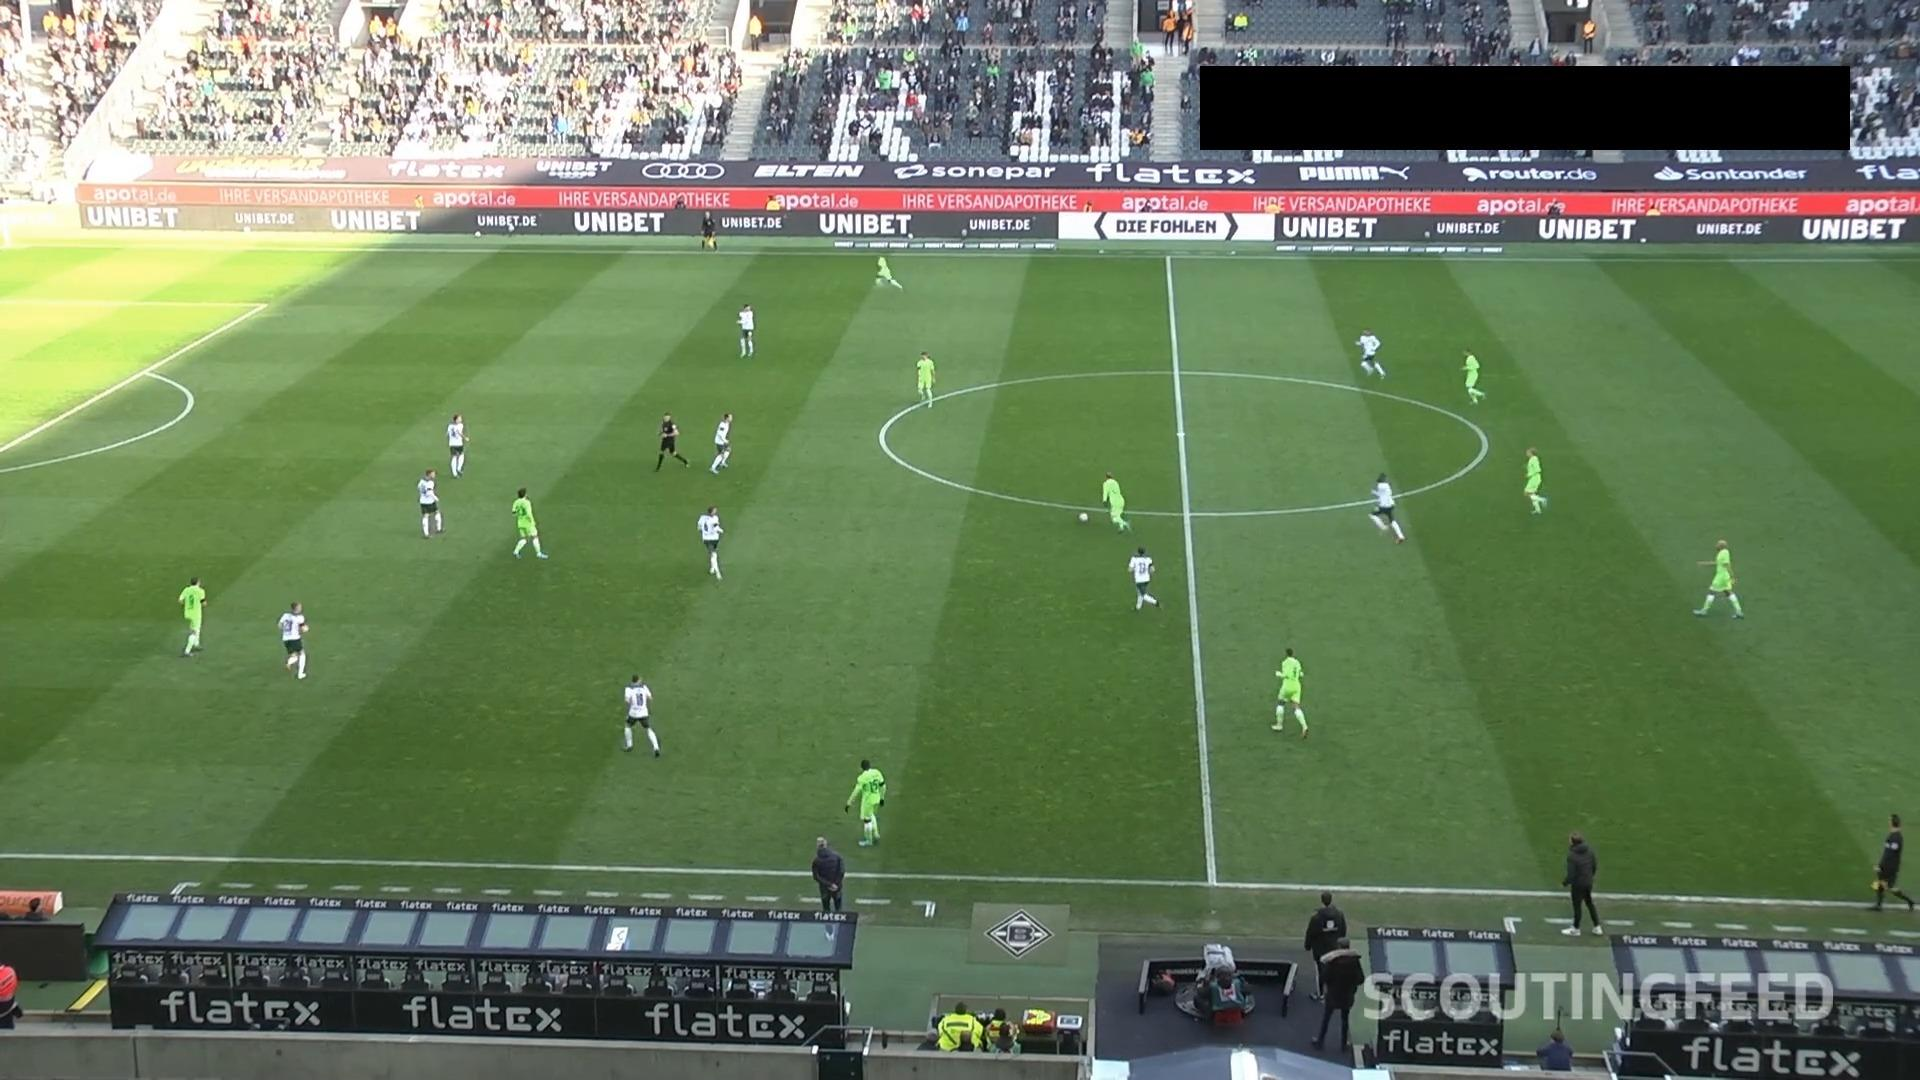ball: (1078, 511, 1088, 522)
coach: (1560, 831, 1603, 936)
player: (1692, 538, 1744, 618), (844, 757, 886, 846), (1270, 646, 1308, 738), (621, 673, 660, 757), (1367, 471, 1405, 544), (510, 486, 548, 558), (277, 600, 309, 678), (177, 575, 206, 655), (696, 505, 723, 580), (1127, 545, 1158, 610), (1100, 470, 1130, 533), (416, 468, 443, 537), (1522, 446, 1546, 514), (1354, 327, 1385, 378), (708, 412, 733, 473), (445, 413, 468, 478), (1460, 347, 1485, 404), (914, 350, 935, 408), (735, 302, 755, 357), (873, 254, 903, 290)
referee: (1303, 890, 1346, 1002), (1870, 811, 1916, 911), (810, 835, 845, 911), (654, 412, 688, 471), (699, 209, 717, 250)
